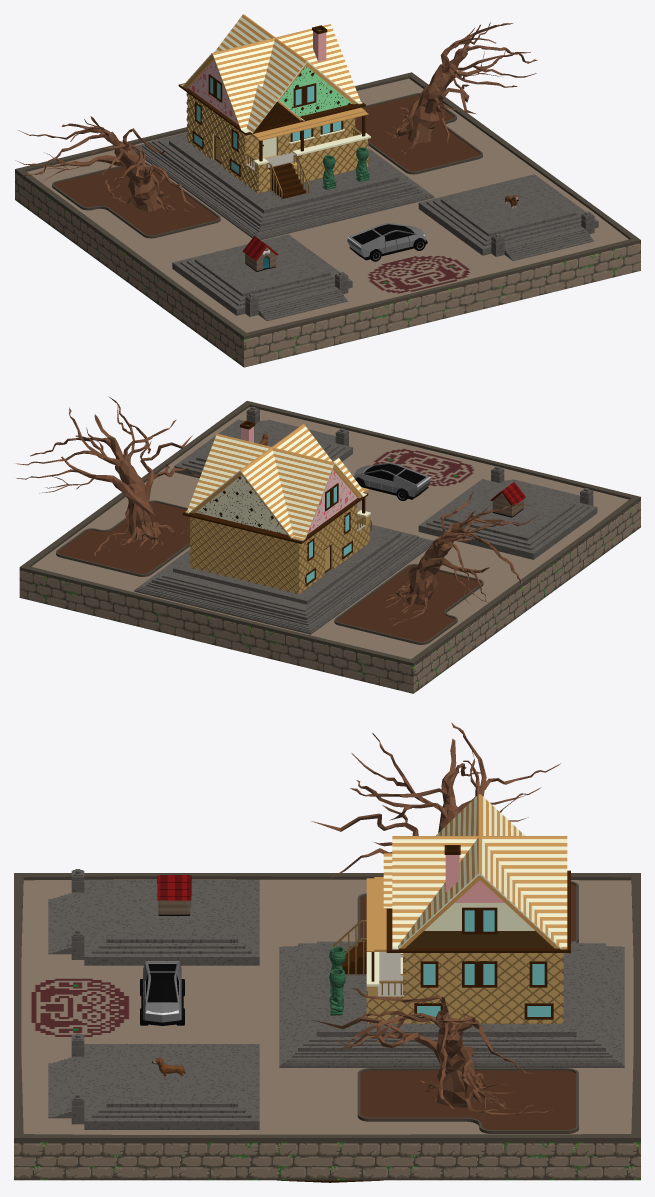
3 renders of one model, top to bottom at view 1: azimuth 30°, elevation 25°; view 2: azimuth 150°, elevation 25°; view 3: azimuth 270°, elevation 25°, orthographic. The views are drawn at different scales.
Parts seen in each view (by area): view 1: Cube.011, Cube.1102, VEHICLES_CYBERTRUCK, OBJRANDOM_DOGHOUSE; view 2: Cube.011, Cube.1102, VEHICLES_CYBERTRUCK, OBJRANDOM_DOGHOUSE; view 3: Cube.011, Cube.1102, VEHICLES_CYBERTRUCK, OBJRANDOM_DOGHOUSE.
Boxes of the visible parts, x1,y1,x2,y2 form: Cube.011: (15, 22, 640, 367); Cube.1102: (178, 14, 370, 199); VEHICLES_CYBERTRUCK: (347, 223, 427, 261); OBJRANDOM_DOGHOUSE: (242, 236, 278, 271); Cube.011: (14, 396, 640, 693); Cube.1102: (182, 420, 372, 594); VEHICLES_CYBERTRUCK: (353, 462, 430, 500); OBJRANDOM_DOGHOUSE: (490, 482, 525, 517); Cube.011: (14, 722, 640, 1180); Cube.1102: (333, 794, 570, 1023); VEHICLES_CYBERTRUCK: (140, 961, 184, 1025); OBJRANDOM_DOGHOUSE: (157, 875, 191, 915).
Size of the model in its own units: 5099 by 1726 by 4000.
Materials: 35 (6 with a texture image).
